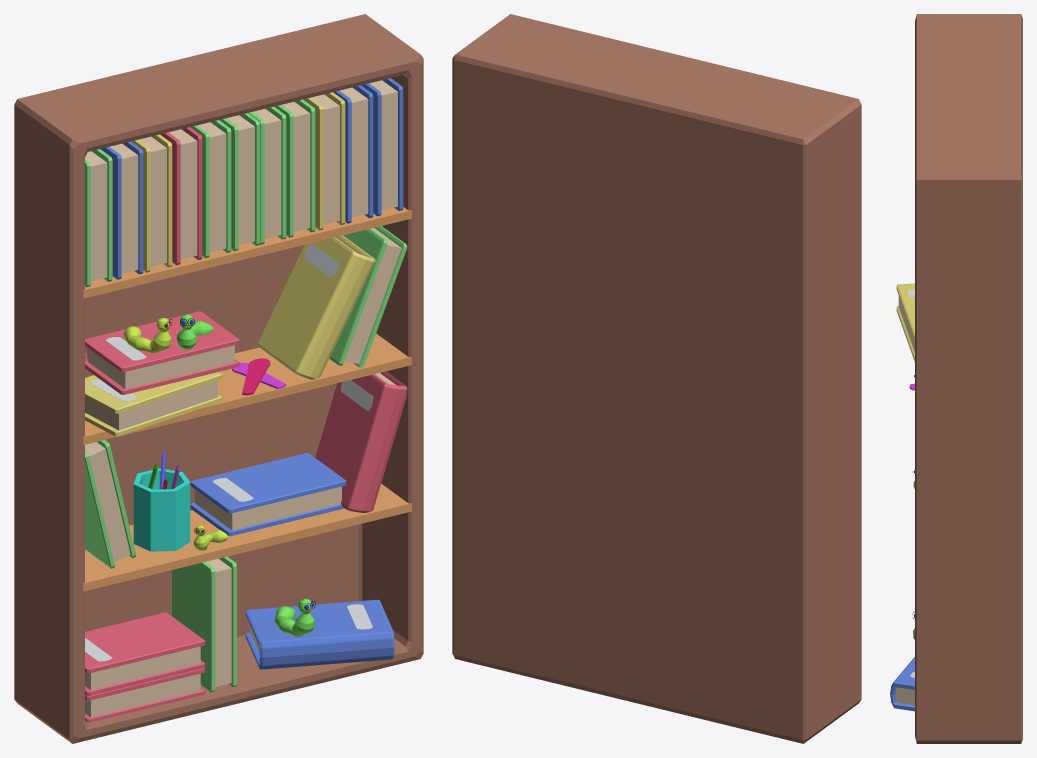
Rendered from bookcase.fbx.
3 renders of one model, left to right at view 1: azimuth 30°, elevation 25°; view 2: azimuth 150°, elevation 25°; view 3: azimuth 270°, elevation 25°, orthographic. The views are drawn at different scales.
Visible parts, largest first — view 1: Cube, Cube.003, Cube.016, Cube.018, Cube.017, Cube.022, Cube.014, Cube.021, Cube.023, Cube.013, Cube.015, Cube.019 (+16 smaller); view 2: Cube; view 3: Cube, Cube.013, Cube.022.
Part boxes in pixels (bbox=[...]): Cube: bbox=[14, 14, 423, 743]; Cube.003: bbox=[83, 207, 411, 591]; Cube.016: bbox=[257, 235, 375, 379]; Cube.018: bbox=[190, 453, 346, 536]; Cube.017: bbox=[315, 371, 407, 512]; Cube.022: bbox=[245, 599, 394, 669]; Cube.014: bbox=[85, 311, 239, 394]; Cube.021: bbox=[85, 612, 205, 695]; Cube.023: bbox=[171, 556, 236, 692]; Cube.013: bbox=[85, 372, 222, 436]; Cube.015: bbox=[329, 226, 407, 367]; Cube.019: bbox=[85, 440, 135, 568]; Cube: bbox=[452, 14, 861, 743]; Cube: bbox=[915, 14, 1022, 743]; Cube.013: bbox=[896, 283, 914, 361]; Cube.022: bbox=[890, 657, 914, 711].
Size of the model in its own units: 599 by 977 by 207.
